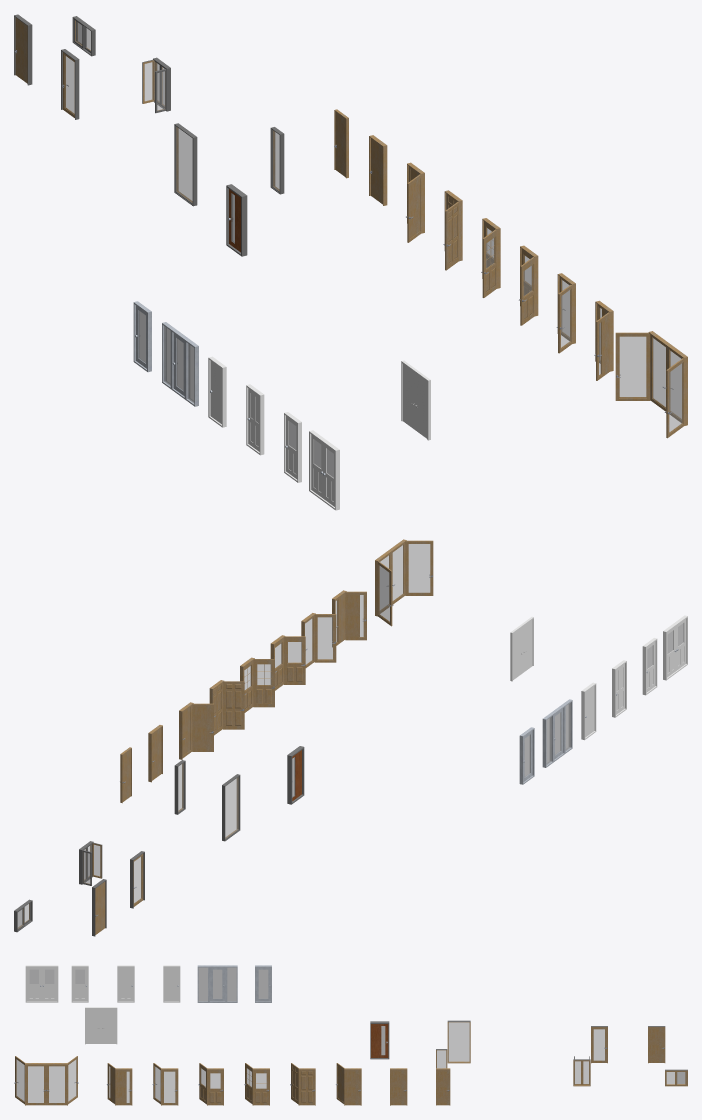
The model's file is single-door-36x84.glb.
3 views of the same model, one above another, from view 1: azimuth 30°, elevation 25°; view 2: azimuth 150°, elevation 25°; view 3: azimuth 270°, elevation 25° (orthographic). The views are drawn at different scales.
Visible parts, largest first — view 1: Geom3D (×19); view 2: Geom3D (×15); view 3: Geom3D (×38).
Boxes of the visible parts, x1=… form: Geom3D (×19): x1=15, y1=17, x2=682, y2=510; Geom3D (×15): x1=192, y1=540, x2=687, y2=838; Geom3D (×38): x1=16, y1=965, x2=664, y2=1105.
Size of the model in its own units: 13.15 by 2.44 by 35.87.
Materials: 11 (5 with a texture image).
